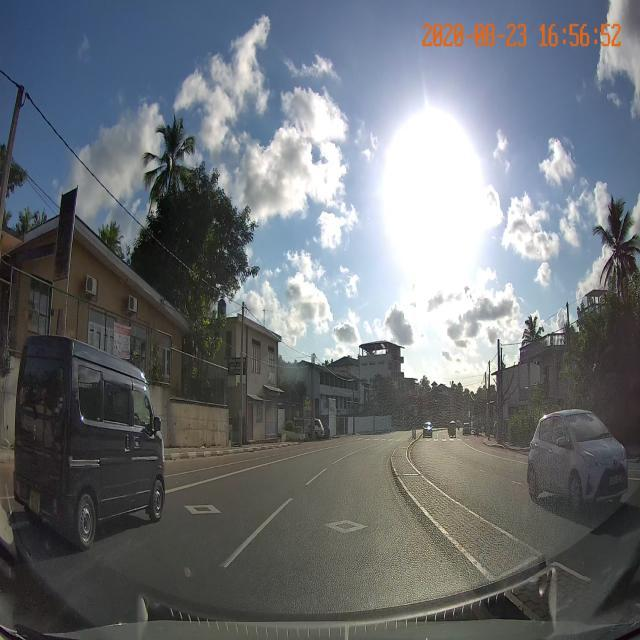diamond: (256, 513, 444, 547)
